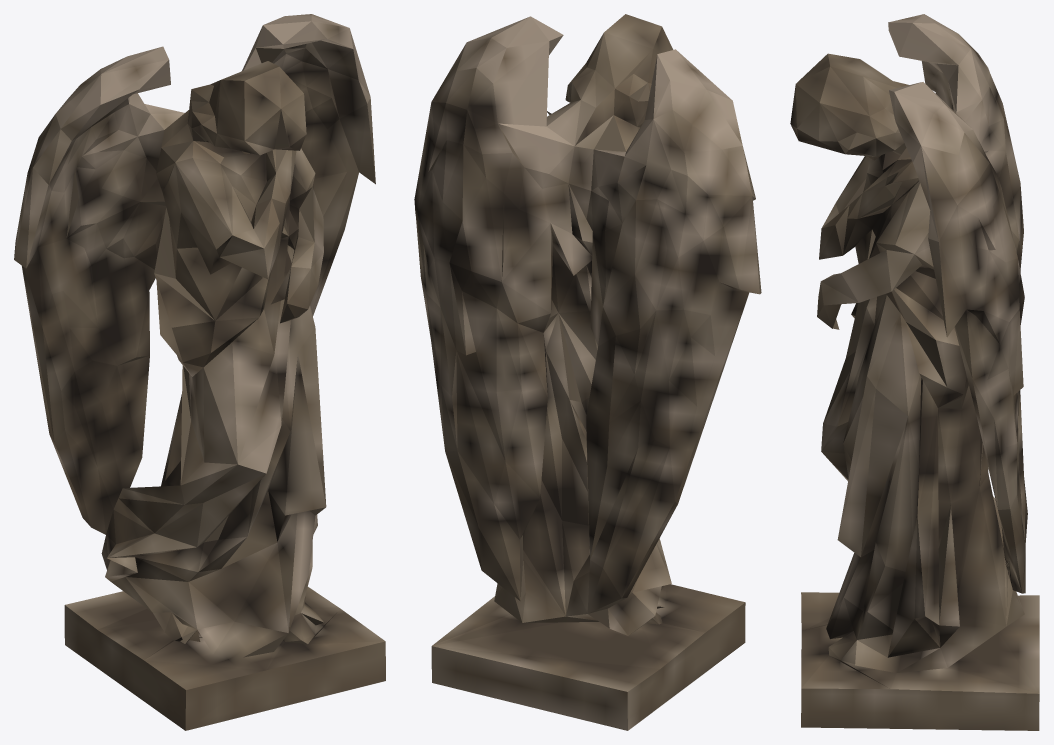
Rendered from SM_MeshyAngel.fbx.
The picture shows the model from 3 angles, left to right: view 1: azimuth 30°, elevation 25°; view 2: azimuth 150°, elevation 25°; view 3: azimuth 270°, elevation 25°; orthographic projection. The views are drawn at different scales.
Visible parts, largest first — view 1: SM_MeshyAngel; view 2: SM_MeshyAngel; view 3: SM_MeshyAngel.
Part boxes in pixels (x1,y1,x2,y2): SM_MeshyAngel: (14,14,385,730); SM_MeshyAngel: (414,14,761,730); SM_MeshyAngel: (790,14,1039,730).
Size of the model in its own units: 0.9002 by 1.53 by 0.5517.
Materials: 1 (1 with a texture image).
